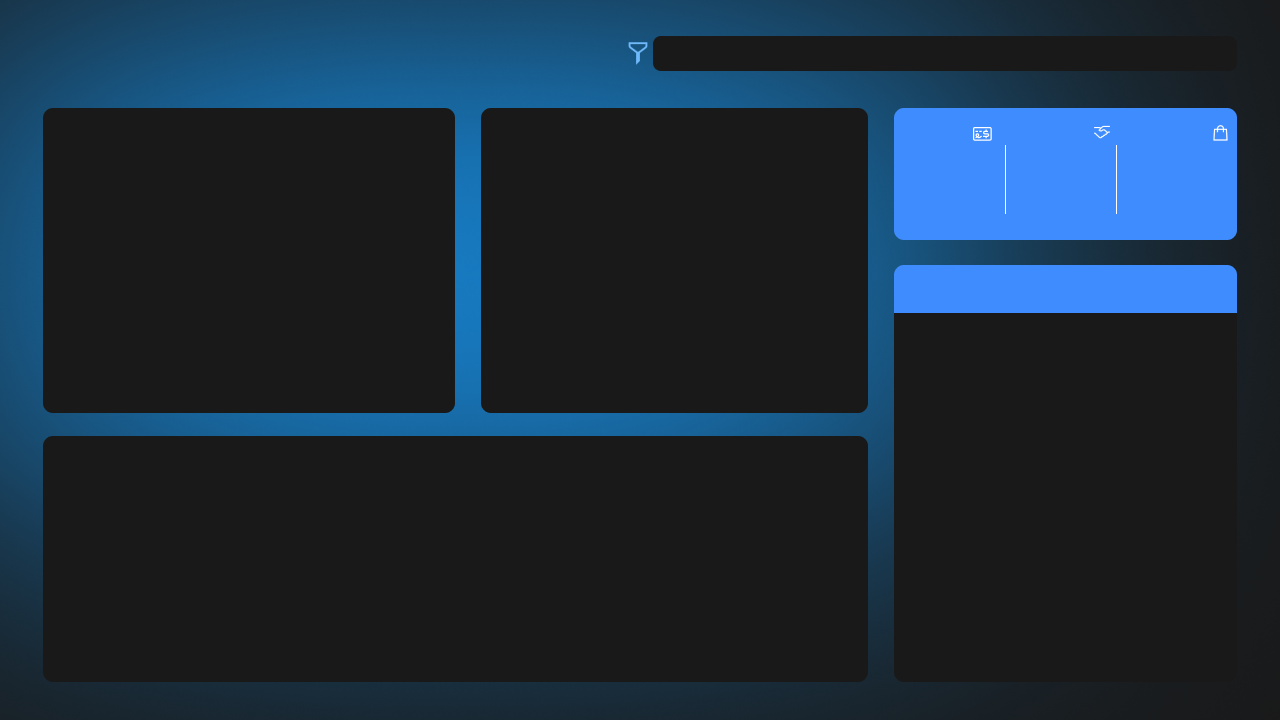

The dashboard page shown, as its layout file describes it:
{"tool":"powerbi","page":{"name":"Página 1","canvas":[1280,720],"ordinal":0},"visuals":[{"type":"card","fields":{"Values":["Sum(registroVendas.Total de Vendas)"]},"box":[892.4,150.8,112.2,34.1],"z":0},{"type":"card","fields":{"Values":["Avg(registroVendas.Total de Vendas)"]},"box":[1115.9,150.8,120.3,34.1],"z":1000},{"type":"clusteredColumnChart","title":"Faturamento por período","fields":{"Y":["Sum(registroVendas.Total de Vendas)"],"Category":["registroVendas.Data Pedido.Variation.Hierarquia de datas.Mês"]},"box":[50.3,444.4,817,237.9],"z":2000},{"type":"pieChart","title":"Formas de Pagamento","fields":{"Y":["Sum(registroVendas.Total de Vendas)"],"Category":["Vendas.Pagamento"]},"box":[490.2,123.9,366.3,289.1],"z":3000},{"type":"columnChart","title":" Total de Vendas por Nome Loja","fields":{"Category":["Lojas.Nome Loja"],"Y":["Sum(Vendas.Total de Vendas)"]},"box":[50.3,123.9,405.8,289.1],"z":4000},{"type":"tableEx","fields":{"Values":["Vendas.Produto","Sum(Vendas.Total de Vendas)","Divide(Sum(Vendas.Total de Vendas), ScopedEval(Sum(Vendas.Total de Vendas), []))"]},"box":[893.3,316,342.9,255.9],"z":5000},{"type":"slicer","fields":{"Values":["Vendas.Produto"]},"box":[660,36.8,600.6,27.8],"z":6000},{"type":"textbox","title":"Gestão de vendas / Dashboard","box":[50,27,511.7,49.4],"z":7000},{"type":"textbox","title":"Acompanhamento das vendas","box":[50.3,62,238.8,18],"z":8000},{"type":"card","fields":{"Values":["Vendas.Comissão"]},"box":[1004.6,150.8,111.3,34.1],"z":9000},{"type":"textbox","title":"Faturamento","box":[892.4,189.4,112.2,18.9],"z":10000},{"type":"textbox","title":"Comissão","box":[1003.7,189.4,112.2,18.9],"z":11000},{"type":"textbox","title":"Ticket Médio","box":[1115.9,189.4,120.3,18.9],"z":12000},{"type":"textbox","title":"em reais","box":[891.5,202,112.2,12.6],"z":13000},{"type":"textbox","title":"em reais","box":[1003.7,202,112.2,12.6],"z":14000},{"type":"textbox","title":"em reais","box":[1115.9,202,112.2,12.6],"z":15000},{"type":"textbox","title":"Filtros","box":[622,38.6,61.9,25.1],"z":16000},{"type":"textbox","title":"Análise por produto","box":[893.3,274,342.9,35],"z":17000}]}

Visuals, with their boxes in screenshot pixels (x1, y1, x2, y2), scaled from the page's 1280x720 canvas onto the 1280x720 screenshot:
card - Sum(registroVendas.Total de Vendas): bbox=(892, 151, 1005, 185)
card - Avg(registroVendas.Total de Vendas): bbox=(1116, 151, 1236, 185)
"Faturamento por período" clusteredColumnChart: bbox=(50, 444, 867, 682)
"Formas de Pagamento" pieChart: bbox=(490, 124, 856, 413)
" Total de Vendas por Nome Loja" columnChart: bbox=(50, 124, 456, 413)
tableEx - Vendas.Produto x Sum(Vendas.Total de Vendas): bbox=(893, 316, 1236, 572)
slicer - Vendas.Produto: bbox=(660, 37, 1261, 65)
"Gestão de vendas / Dashboard" textbox: bbox=(50, 27, 562, 76)
"Acompanhamento das vendas" textbox: bbox=(50, 62, 289, 80)
card - Vendas.Comissão: bbox=(1005, 151, 1116, 185)
"Faturamento" textbox: bbox=(892, 189, 1005, 208)
"Comissão" textbox: bbox=(1004, 189, 1116, 208)
"Ticket Médio" textbox: bbox=(1116, 189, 1236, 208)
"em reais" textbox: bbox=(892, 202, 1004, 215)
"em reais" textbox: bbox=(1004, 202, 1116, 215)
"em reais" textbox: bbox=(1116, 202, 1228, 215)
"Filtros" textbox: bbox=(622, 39, 684, 64)
"Análise por produto" textbox: bbox=(893, 274, 1236, 309)
